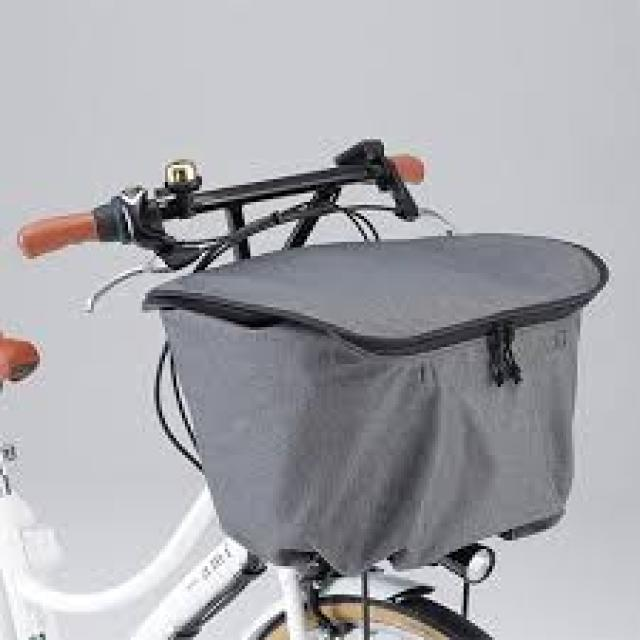basket: (143, 233, 606, 569)
